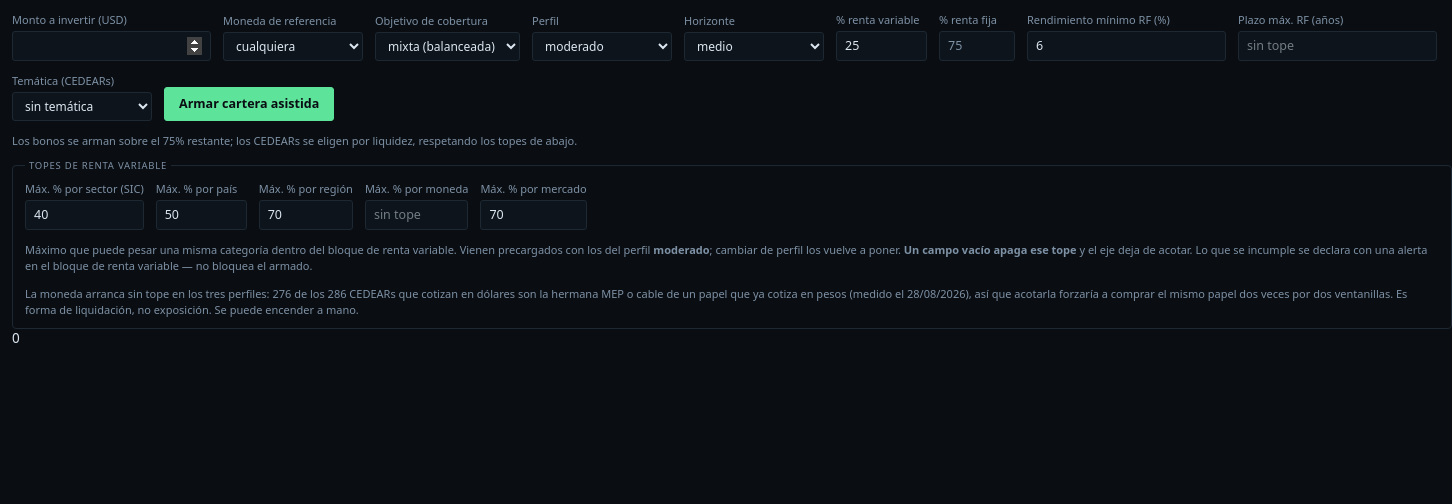
PanelArmadoAsistido › en éxito, precarga la cartera y muestra las alertas de la respuesta
Type "100000" into the number field labelled "Monto a invertir (USD)" at (112, 46), box [12,31,211,61]
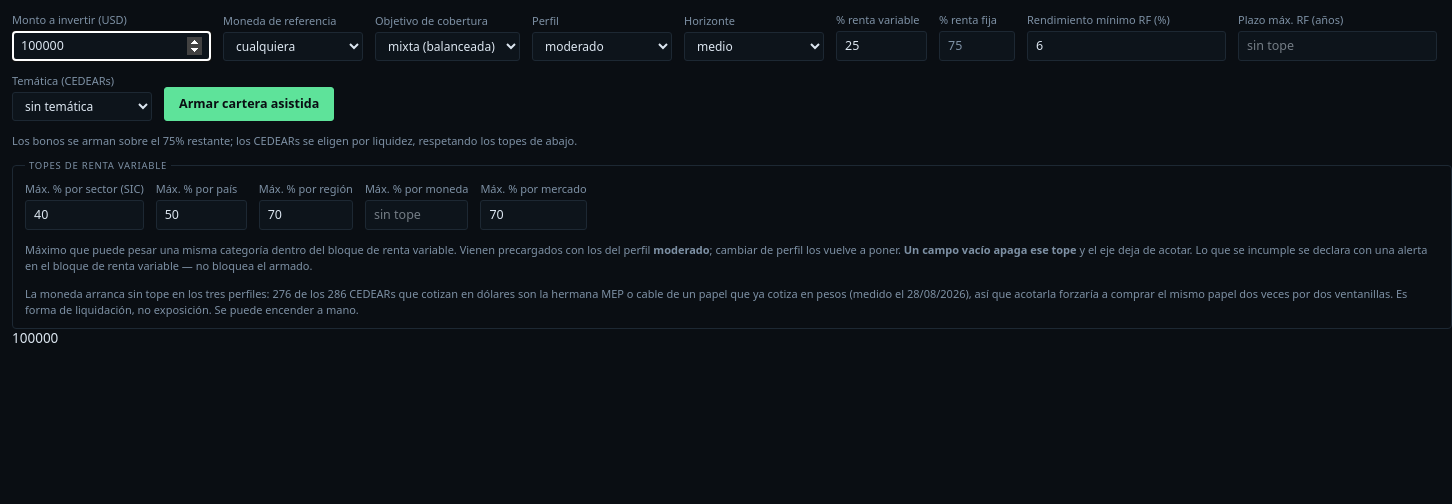
Click the button "Armar cartera asistida" at (249, 104), box [164,87,334,121]
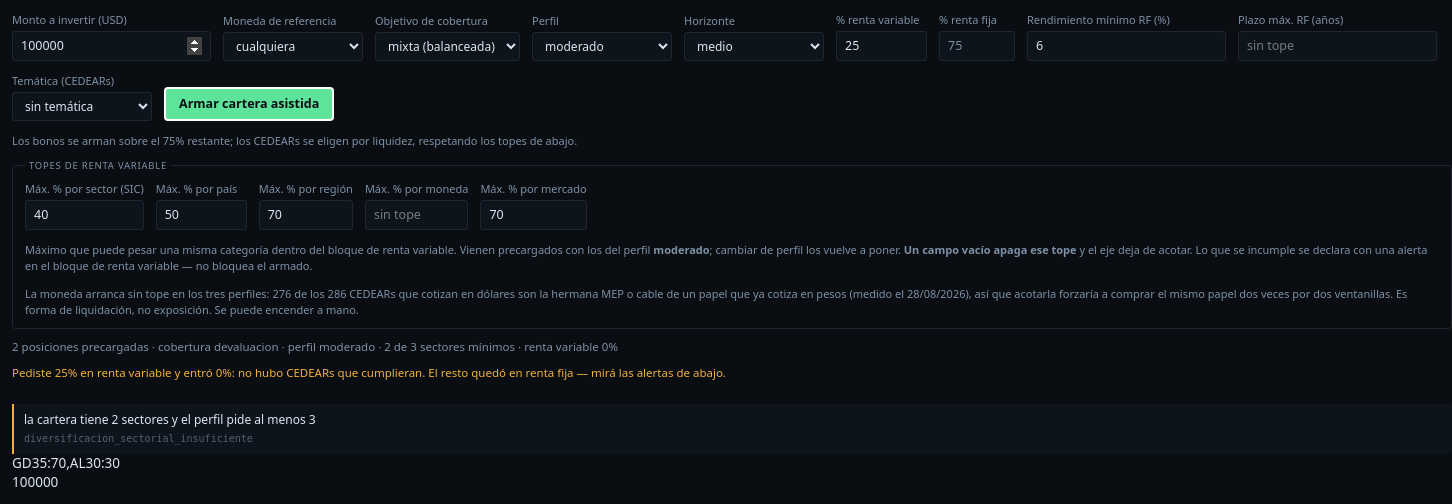
Expected: the text with test id "cartera" reads "GD35:70,AL30:30", [12,454,120,472]
Expected: the text "la cartera tiene 2 sectores y el perfil pide al menos 3" is shown, [24,411,316,428]
